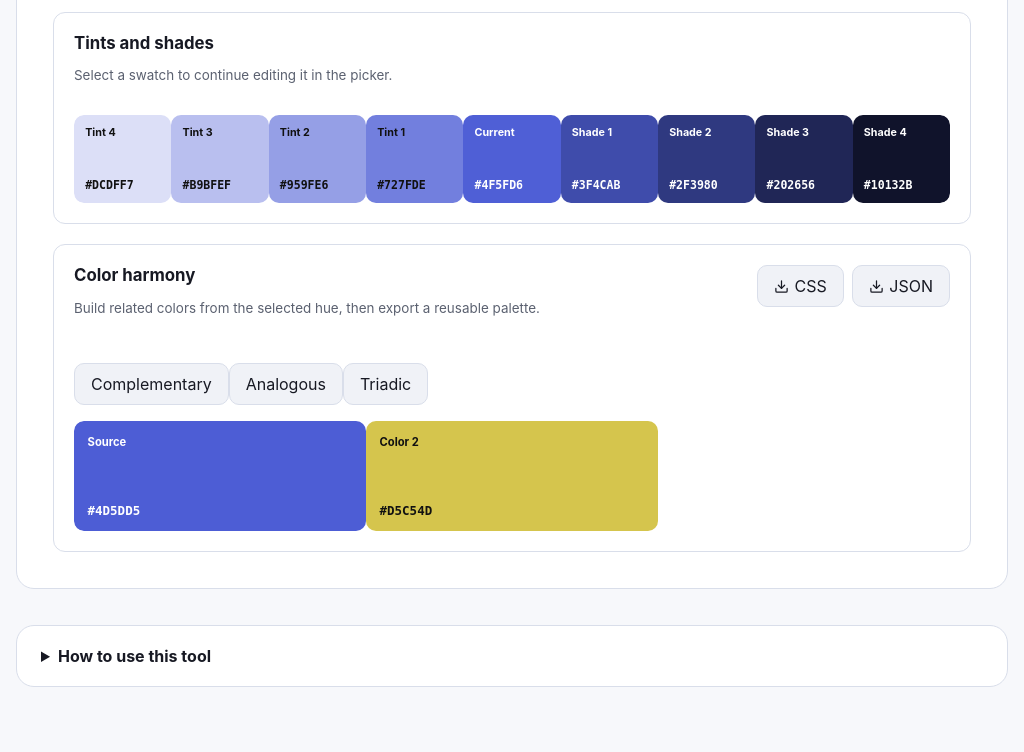
Test: Color Picker & Converter › updates opacity and contrast settings without resetting the color
(page scrolled)
Click the button "Triadic".
click(386, 384)  # box [343,364,428,406]
(page scrolled)
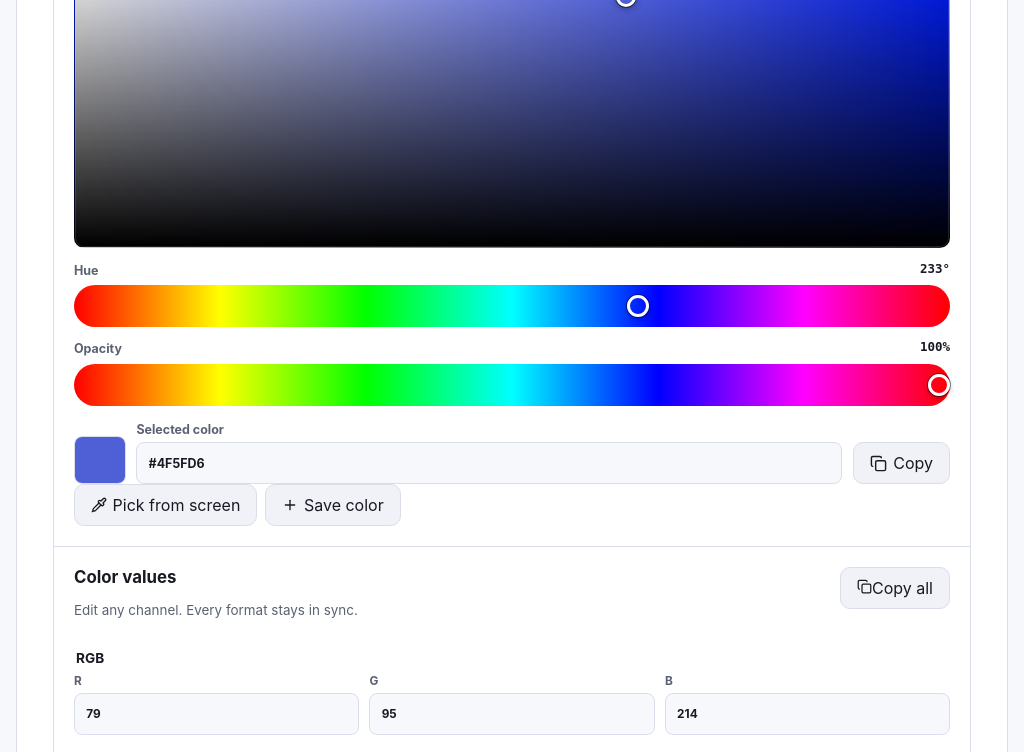
Set the slider named "Opacity" to "50" at (512, 385), box [74,364,950,406]
(page scrolled)
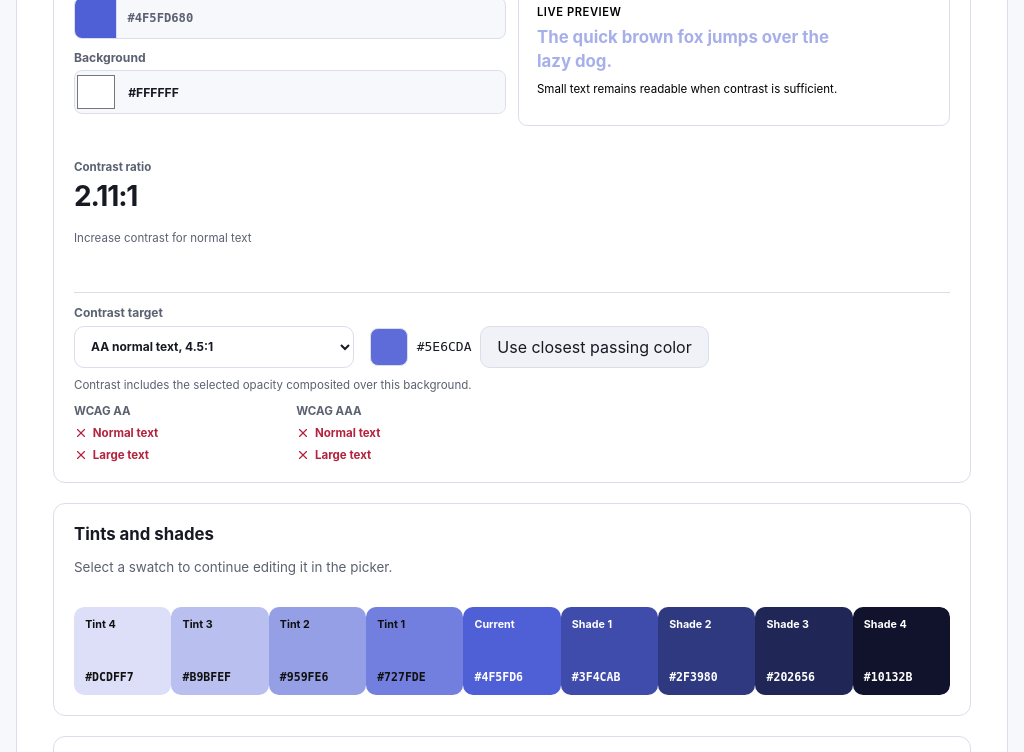
Now the text "Contrast includes the selected opacity" is shown, box [74,378,472,392]
